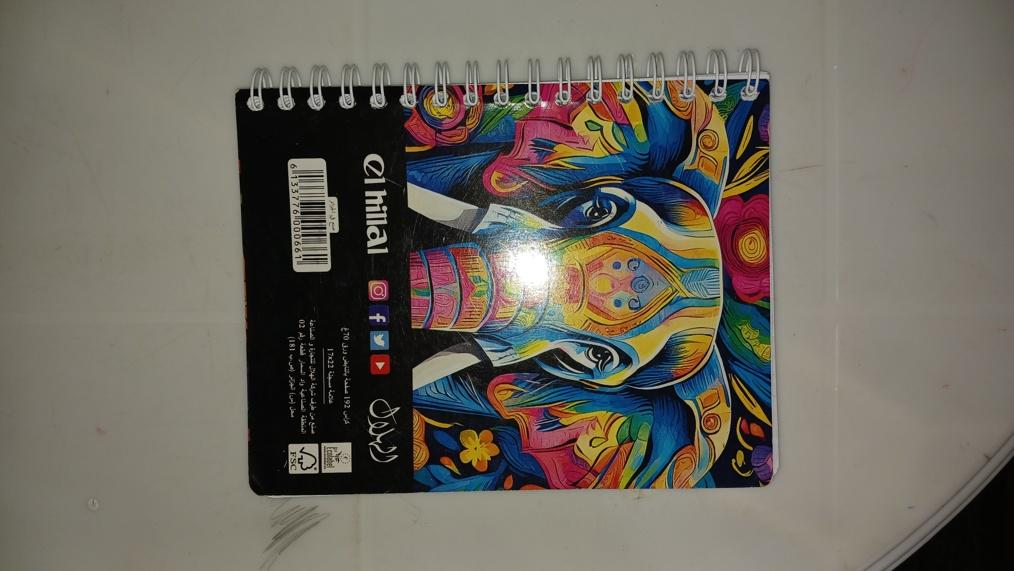notebook: (248, 51, 773, 495)
